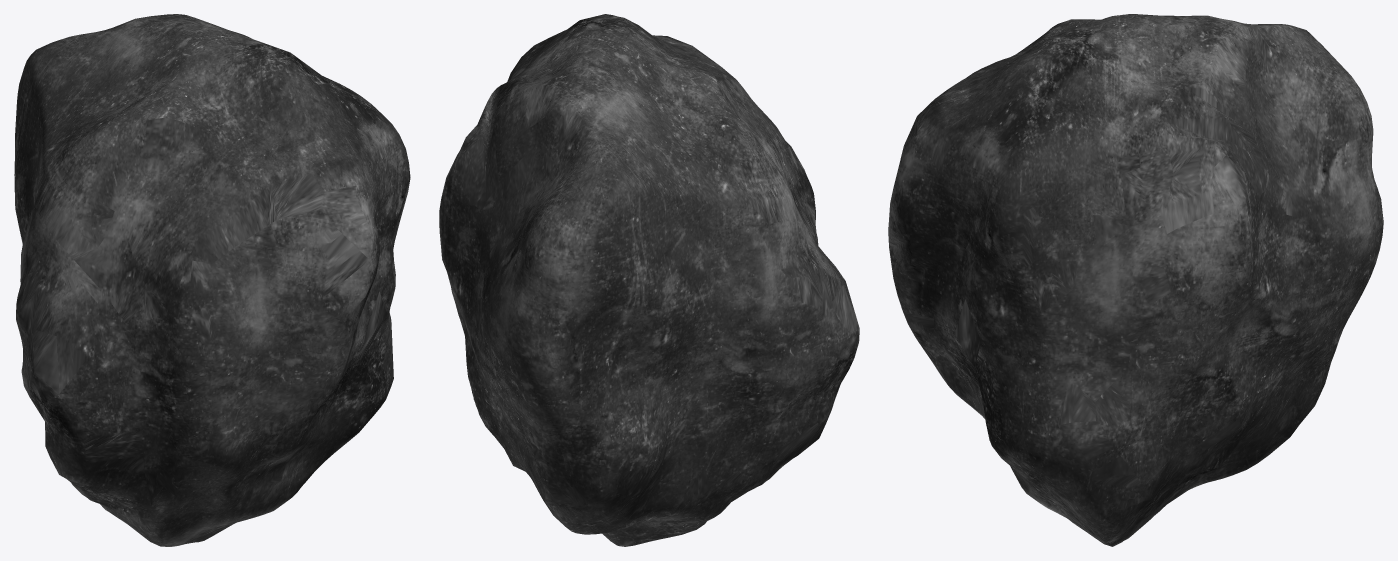
The model's file is ast2.fbx.
3 renders of one model, left to right at view 1: azimuth 30°, elevation 25°; view 2: azimuth 150°, elevation 25°; view 3: azimuth 270°, elevation 25°, orthographic. The views are drawn at different scales.
Parts seen in each view (by area): view 1: ast2; view 2: ast2; view 3: ast2.
Part boxes in pixels (x1=…): ast2: x1=14, y1=14, x2=410, y2=546; ast2: x1=439, y1=14, x2=859, y2=546; ast2: x1=888, y1=14, x2=1383, y2=546.
Size of the model in its own units: 2.06 by 2.74 by 2.34.
1 material, 1 textured.
